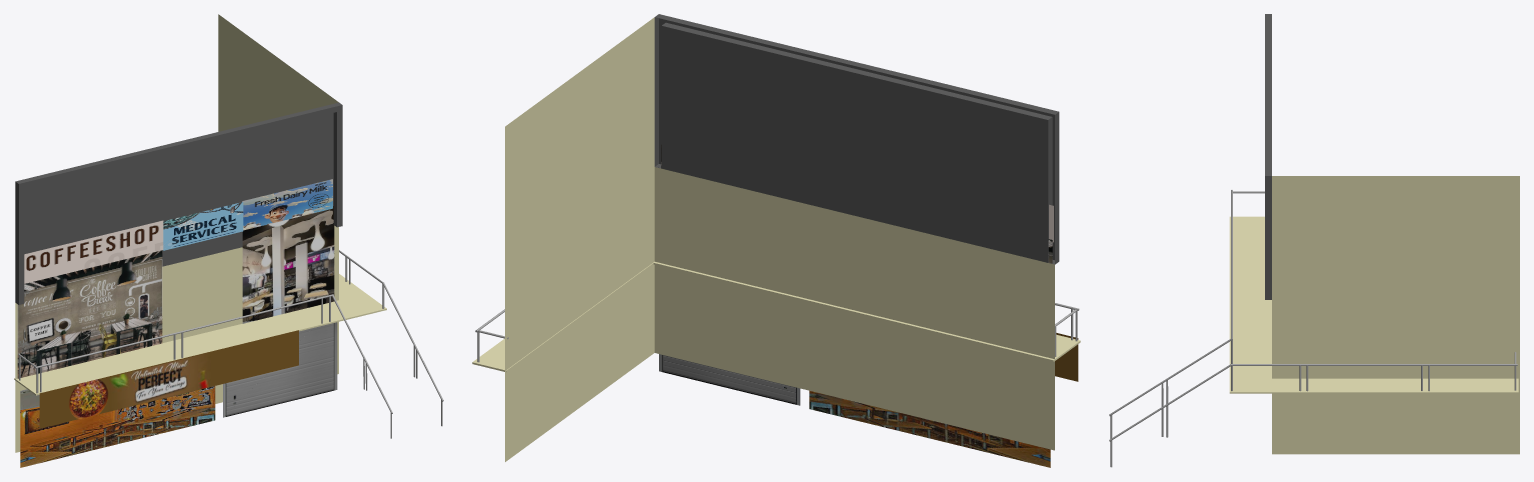
Rendered from Misal fbx.fbx.
3 renders of one model, left to right at view 1: azimuth 30°, elevation 25°; view 2: azimuth 150°, elevation 25°; view 3: azimuth 270°, elevation 25°, orthographic. The views are drawn at different scales.
Parts seen in each view (by area): view 1: pCube1, pPlane11, pPlane9, pPlane6, pPlane8, pCube2, pPlane13, pPlane10, pPlane12, polySurface47, pPlane7; view 2: pCube1, pPlane8, pCube2, pPlane13, pPlane9, polySurface47; view 3: pCube1, pCube2, polySurface47.
Boxes of the visible parts, x1=… form: pCube1: x1=15, y1=14, x2=342, y2=452; pPlane11: x1=17, y1=250, x2=162, y2=378; pPlane9: x1=39, y1=330, x2=298, y2=428; pPlane6: x1=242, y1=206, x2=334, y2=323; pPlane8: x1=20, y1=386, x2=215, y2=467; pCube2: x1=14, y1=274, x2=386, y2=395; pPlane13: x1=223, y1=322, x2=337, y2=417; pPlane10: x1=24, y1=220, x2=163, y2=283; pPlane12: x1=242, y1=179, x2=332, y2=230; polySurface47: x1=18, y1=250, x2=443, y2=438; pPlane7: x1=163, y1=202, x2=243, y2=250; pCube1: x1=505, y1=14, x2=1059, y2=461; pPlane8: x1=809, y1=390, x2=1050, y2=467; pCube2: x1=472, y1=261, x2=1080, y2=372; pPlane13: x1=659, y1=354, x2=800, y2=405; pPlane9: x1=1055, y1=333, x2=1078, y2=381; polySurface47: x1=475, y1=303, x2=1079, y2=362; pCube1: x1=1265, y1=14, x2=1519, y2=454; pCube2: x1=1229, y1=216, x2=1518, y2=393; polySurface47: x1=1109, y1=190, x2=1517, y2=467.
Bounding box in the file's own units: 26.24 × 20.51 × 25.96.
